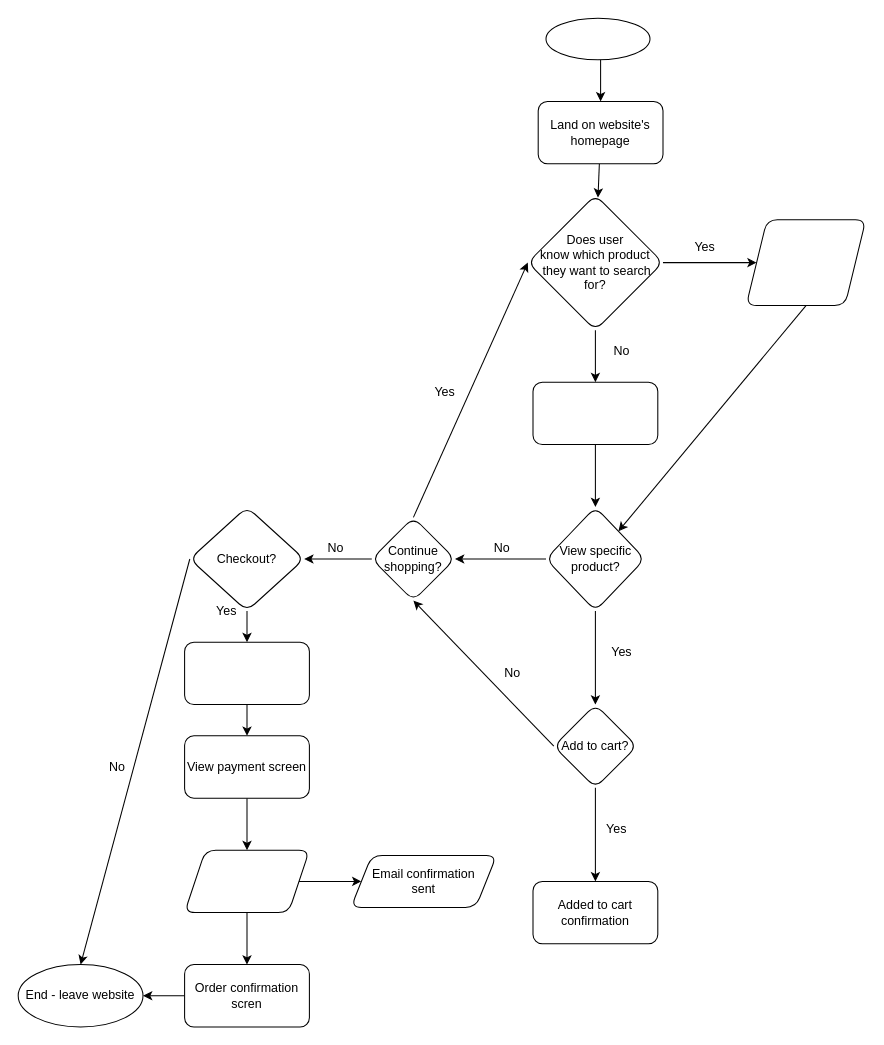
Image size: 884x1045. Some labels were removed from this diagram. The centre of each missing label's shape, as x and y in pixels:
Input payment details: the point at 246,881
Start: the point at 597,38
User explores the products on the homepage: the point at 595,413
User searches for specific product: the point at 805,262
View cart screen: the point at 246,673
